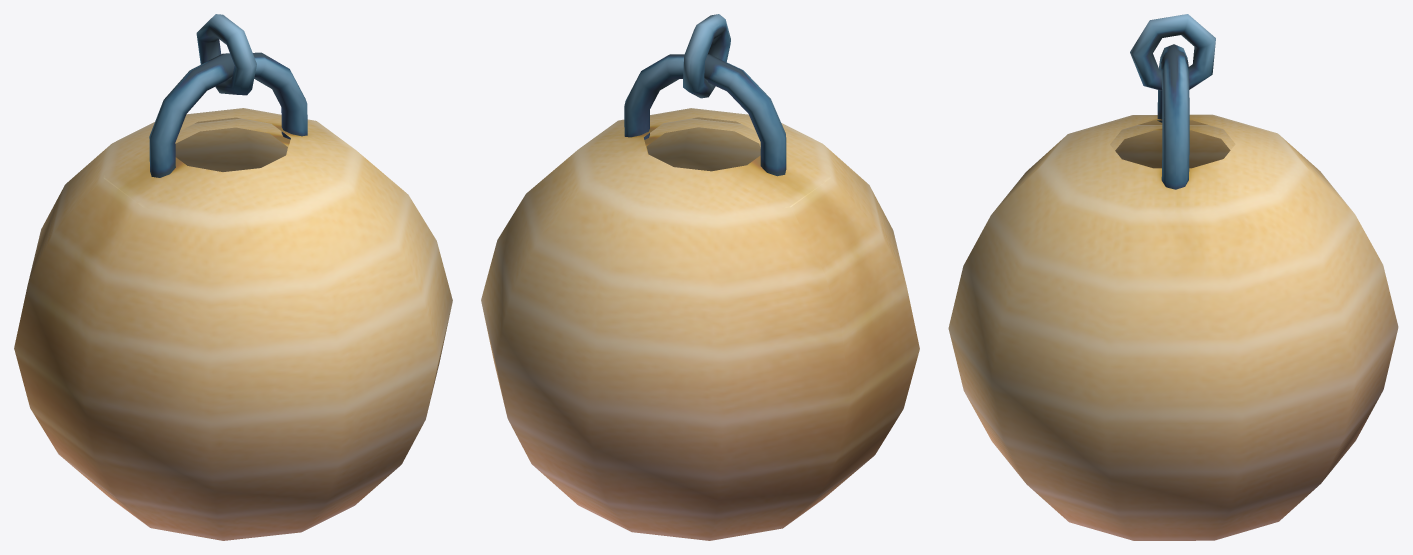
Rendered from SE_Lampion_02b.fbx.
The picture shows the model from 3 angles, left to right: view 1: azimuth 30°, elevation 25°; view 2: azimuth 150°, elevation 25°; view 3: azimuth 270°, elevation 25°; orthographic projection.
Visible parts, largest first — view 1: SE_Lampion_02b; view 2: SE_Lampion_02b; view 3: SE_Lampion_02b.
Boxes of the visible parts, box(x1,y1,x2,y2) form: SE_Lampion_02b: box(14, 14, 452, 540); SE_Lampion_02b: box(481, 14, 919, 540); SE_Lampion_02b: box(948, 14, 1398, 540).
Bounding box in the file's own units: 2.19 × 2.87 × 2.3.
